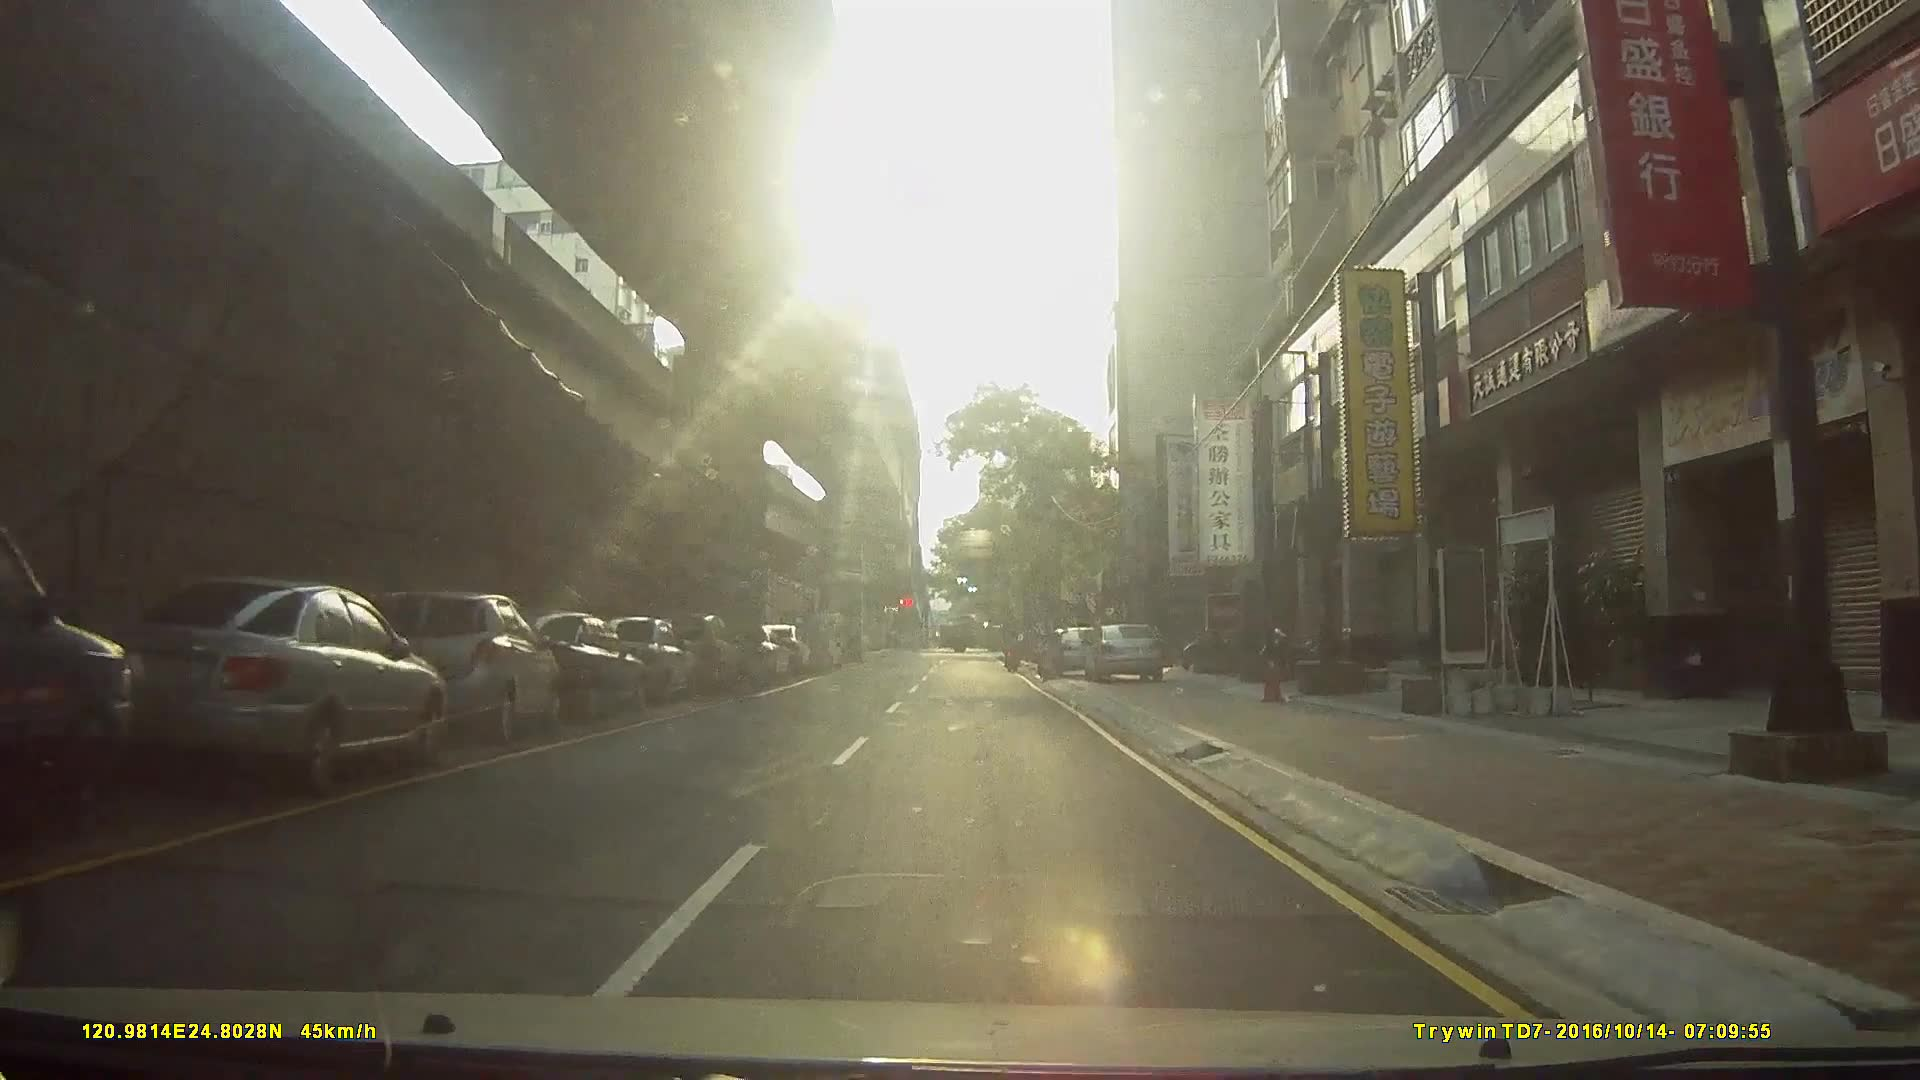vehicle: (66, 574, 435, 807), (1, 505, 158, 852), (344, 588, 556, 746), (502, 611, 644, 727), (597, 617, 699, 705), (653, 612, 742, 702), (1079, 622, 1168, 682), (1035, 625, 1105, 680), (774, 604, 829, 674), (938, 615, 1015, 651)
